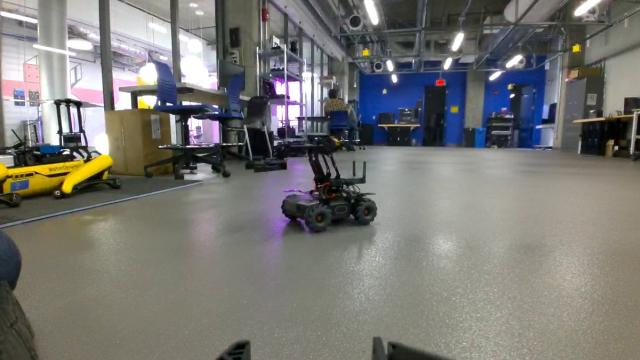robot: (279, 140, 384, 237)
